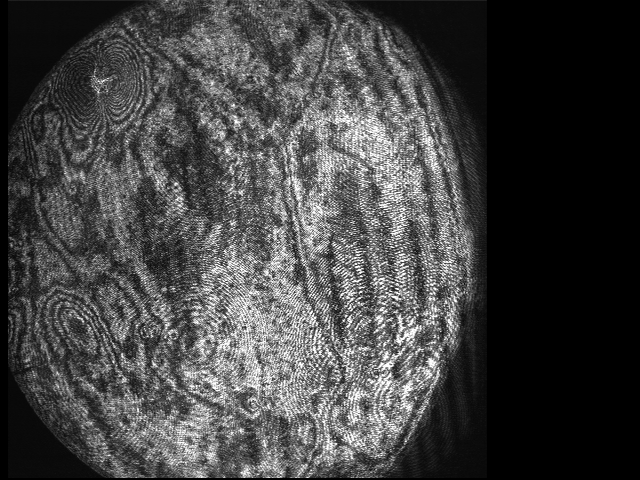plume: (59, 41, 140, 120)
